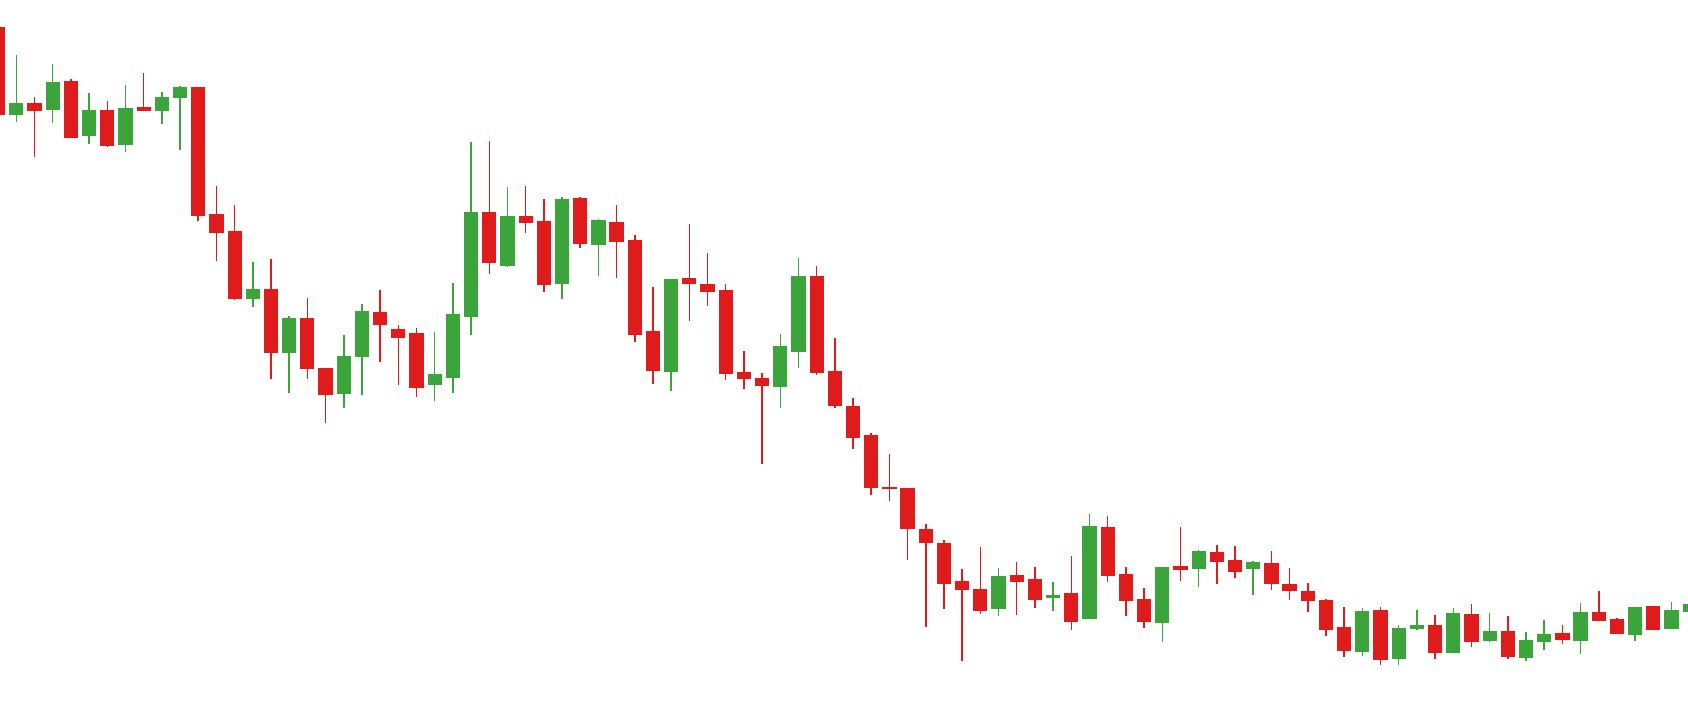sell: (210, 140, 500, 327)
